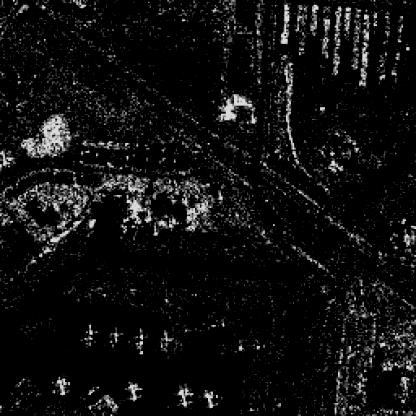airplane: (47, 371, 75, 398), (152, 325, 176, 356), (76, 322, 100, 349), (198, 384, 221, 411), (130, 324, 148, 358), (174, 384, 195, 411), (106, 325, 127, 351), (121, 380, 144, 402)
